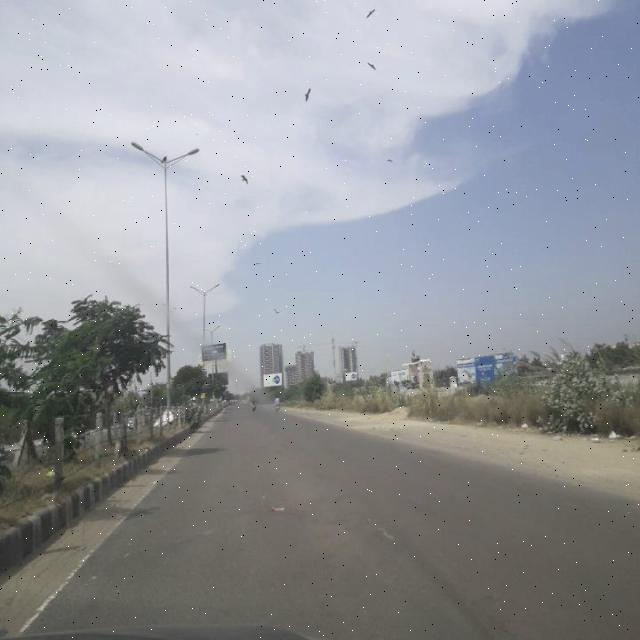D44: (49, 493, 143, 599)
